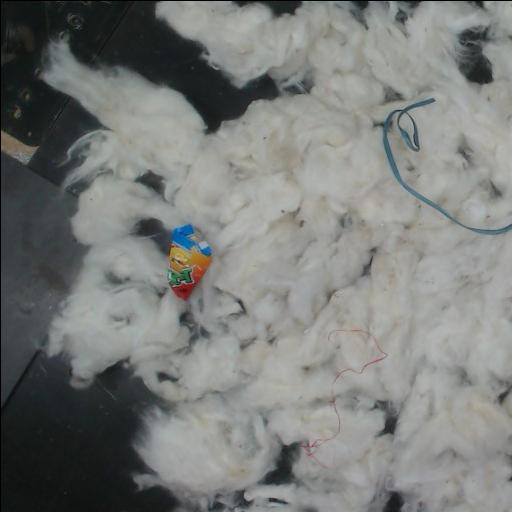conveyor belt: (1, 1, 276, 512), (135, 218, 169, 254), (266, 446, 295, 483), (463, 47, 489, 82), (137, 173, 160, 193), (384, 493, 403, 512), (268, 1, 297, 13), (383, 409, 396, 432)
cotton: (43, 1, 512, 512)
packet: (169, 224, 211, 300)
thread: (375, 97, 512, 235), (328, 328, 387, 393), (300, 394, 340, 462)
